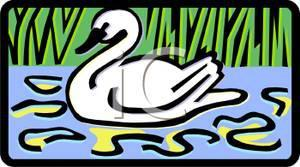bird: (63, 9, 246, 135)
